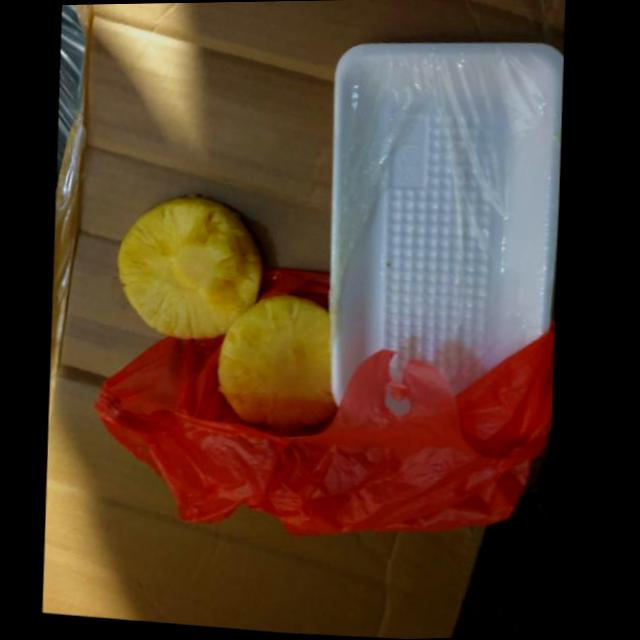carton: (45, 0, 566, 640)
tui_ni_long: (95, 318, 557, 540)
vo_trai_cay: (118, 198, 265, 343), (219, 297, 338, 436)
xop: (329, 39, 564, 404)
